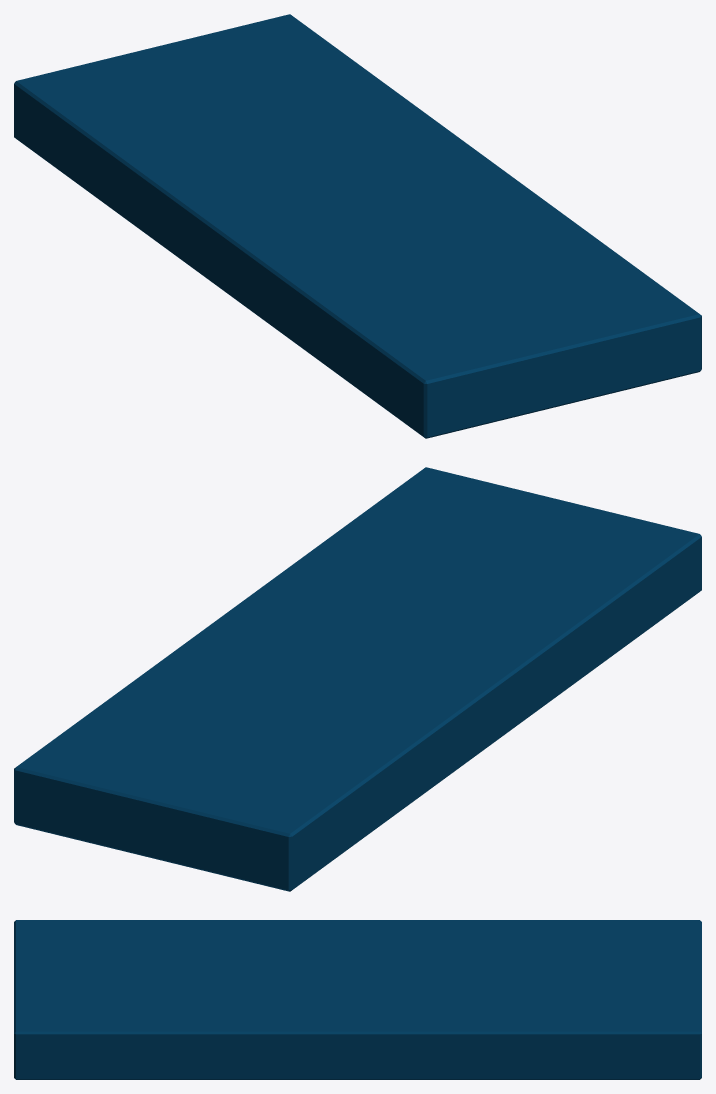
File: Board_Puzzle_05.fbx
3 renders of one model, top to bottom at view 1: azimuth 30°, elevation 25°; view 2: azimuth 150°, elevation 25°; view 3: azimuth 270°, elevation 25°, orthographic. The views are drawn at different scales.
Visible parts, largest first — view 1: Board_Puzzle_05; view 2: Board_Puzzle_05; view 3: Board_Puzzle_05.
Part boxes in pixels (left/top/right/bottom): Board_Puzzle_05: left=14, top=14, right=701, bottom=438; Board_Puzzle_05: left=14, top=467, right=701, bottom=891; Board_Puzzle_05: left=14, top=920, right=701, bottom=1079.
Bounding box in the file's own units: 20.13 × 4.01 × 51.65.
